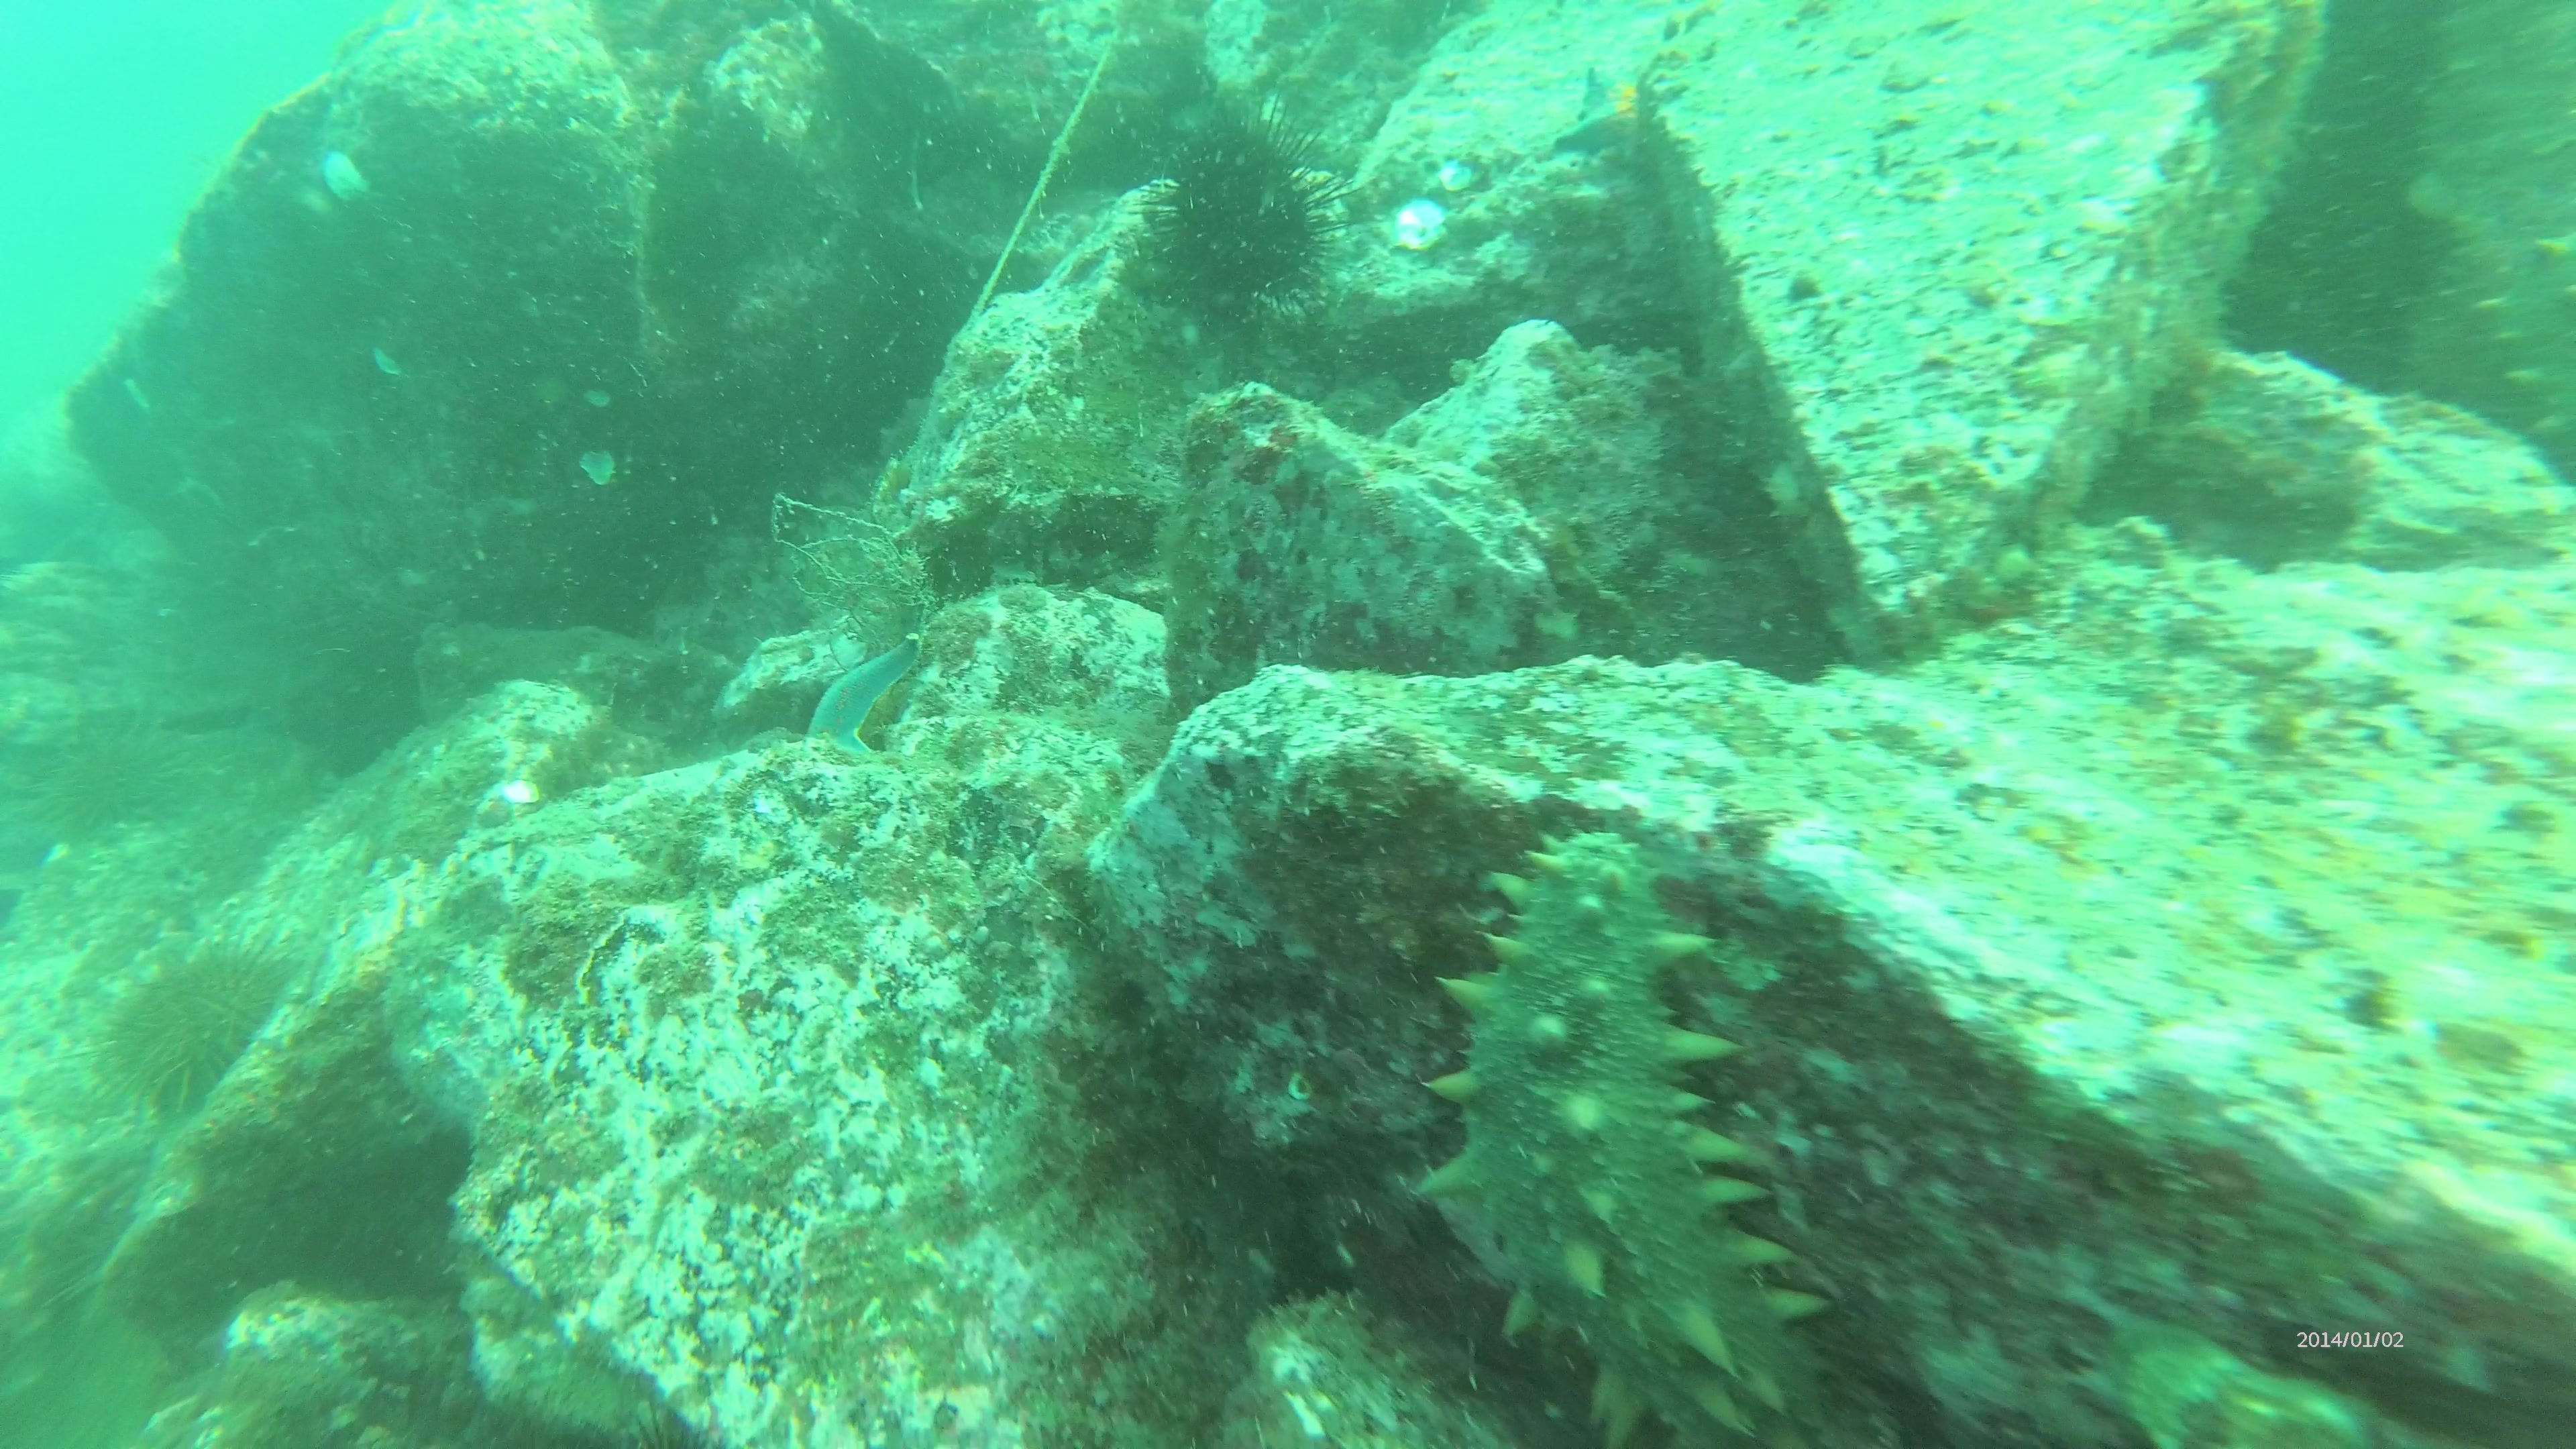echinus: (1113, 99, 1350, 331), (96, 929, 317, 1127)
holothurian: (1398, 816, 1824, 1444), (2475, 228, 2576, 464)
starfish: (796, 616, 927, 754), (1545, 58, 1661, 170), (1369, 202, 1461, 264)
